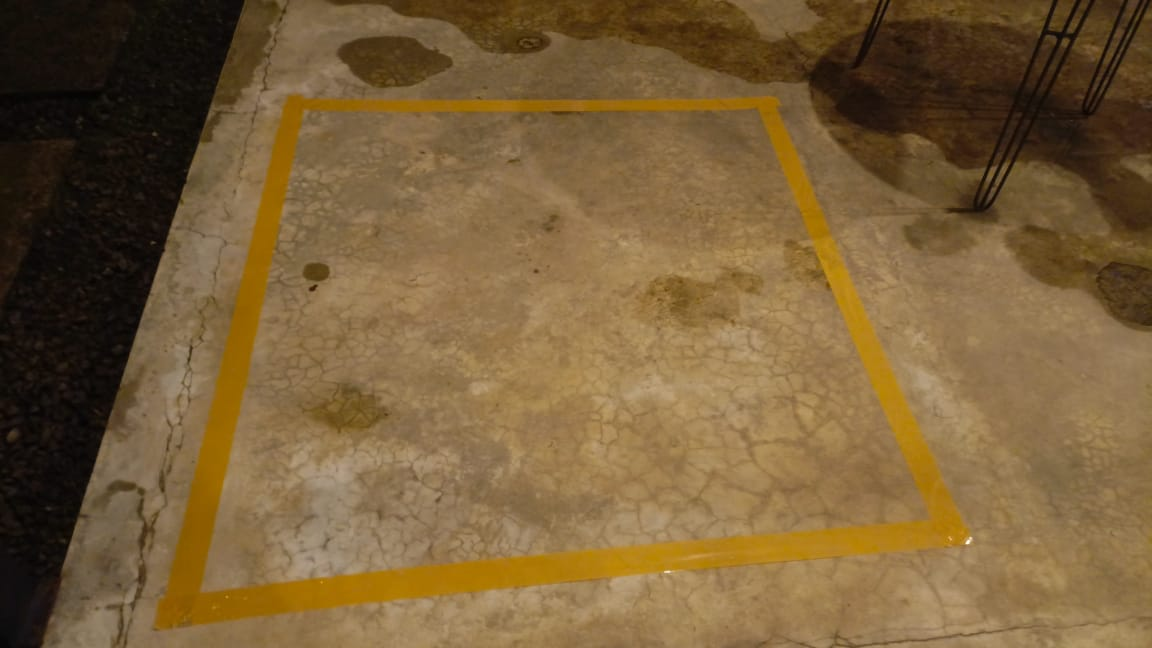floor marking: (155, 95, 970, 628)
